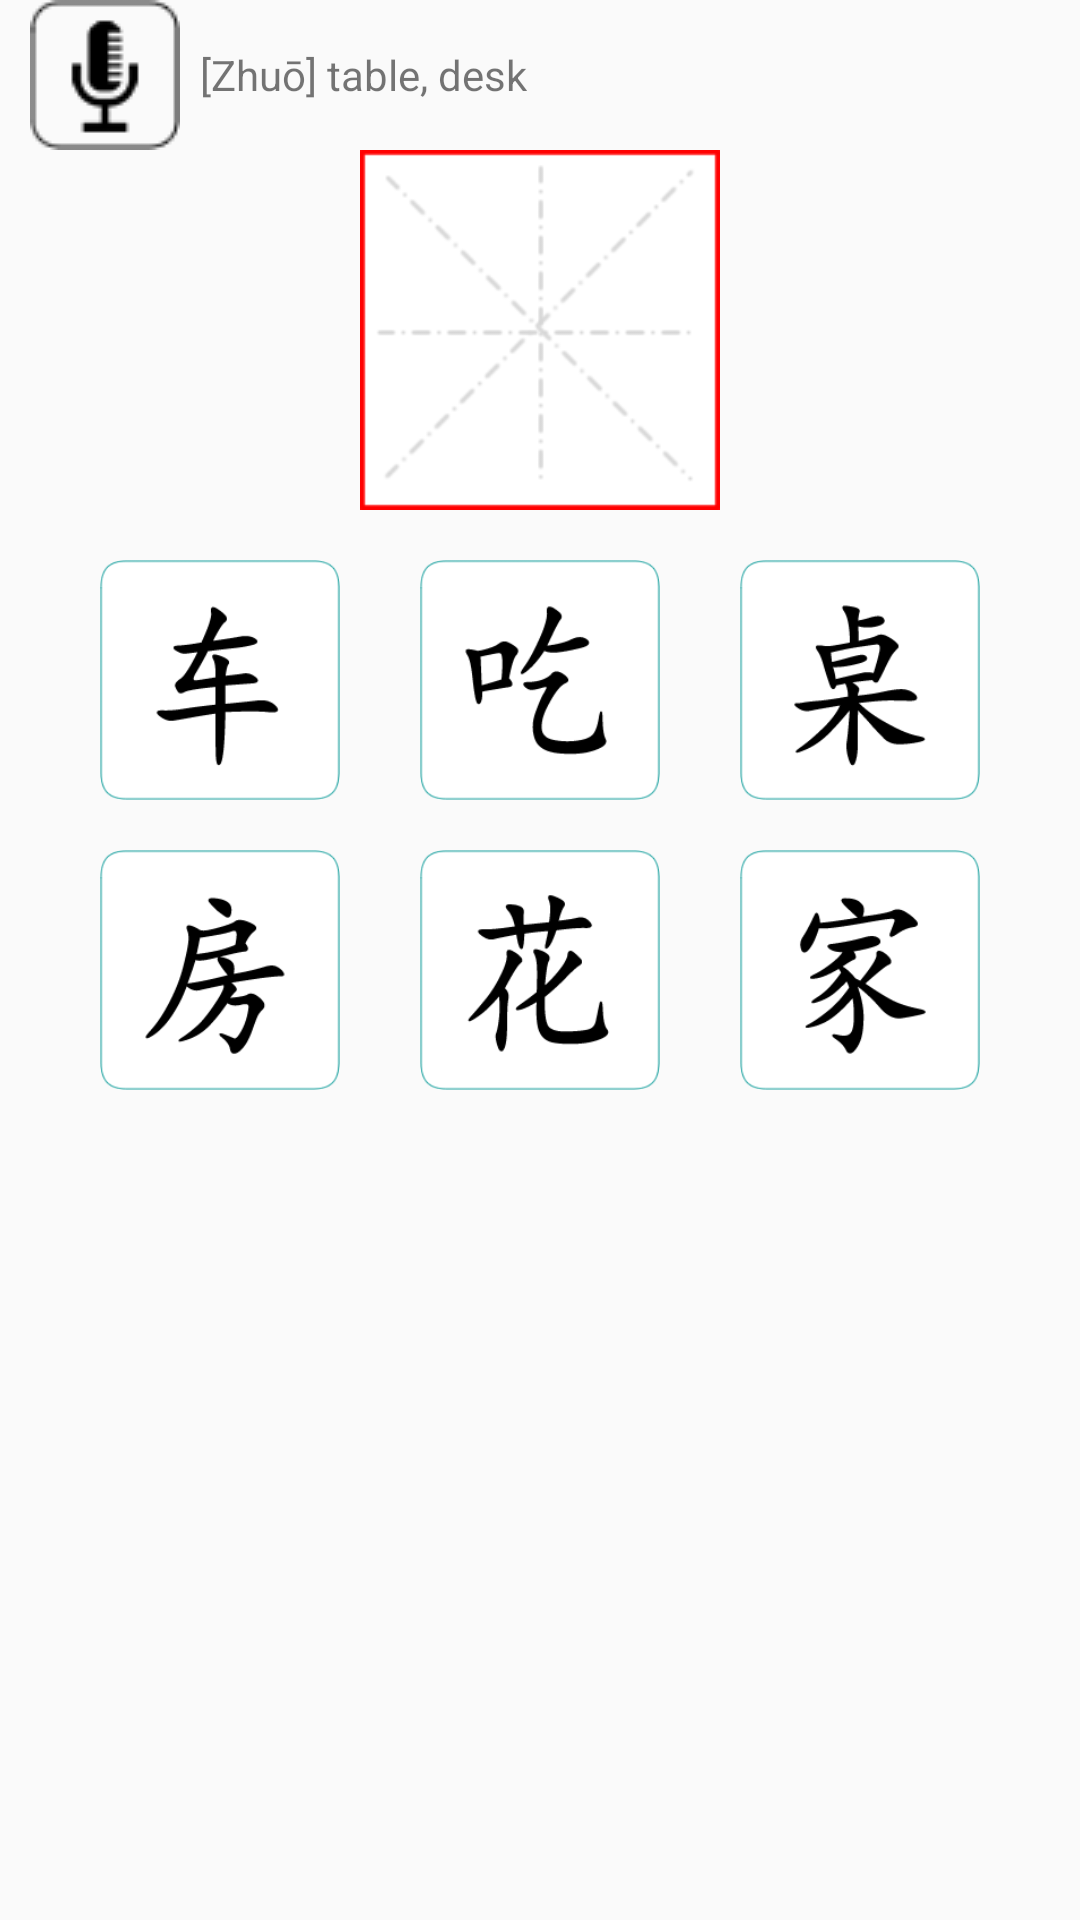

Icons on this 1080w x 1920h Android screen, each with its box as (x1, y1, x2, y2):
micsicon: (30, 0, 180, 150)
